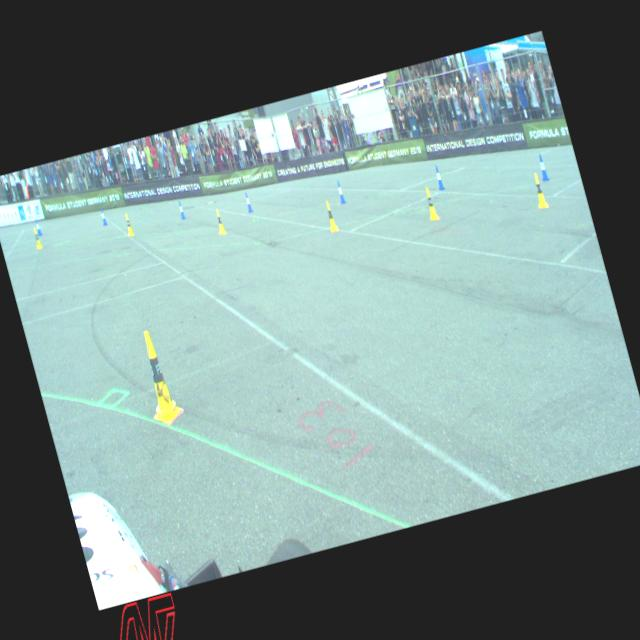blue_cone: (536, 154, 549, 180), (432, 164, 444, 190), (336, 180, 346, 203), (243, 191, 253, 212), (177, 200, 185, 218), (99, 207, 107, 224), (34, 219, 42, 235)
yellow_cone: (132, 328, 183, 425), (530, 172, 548, 208), (322, 200, 338, 232), (423, 187, 438, 220), (213, 208, 226, 234), (31, 226, 42, 248), (123, 213, 133, 235)
